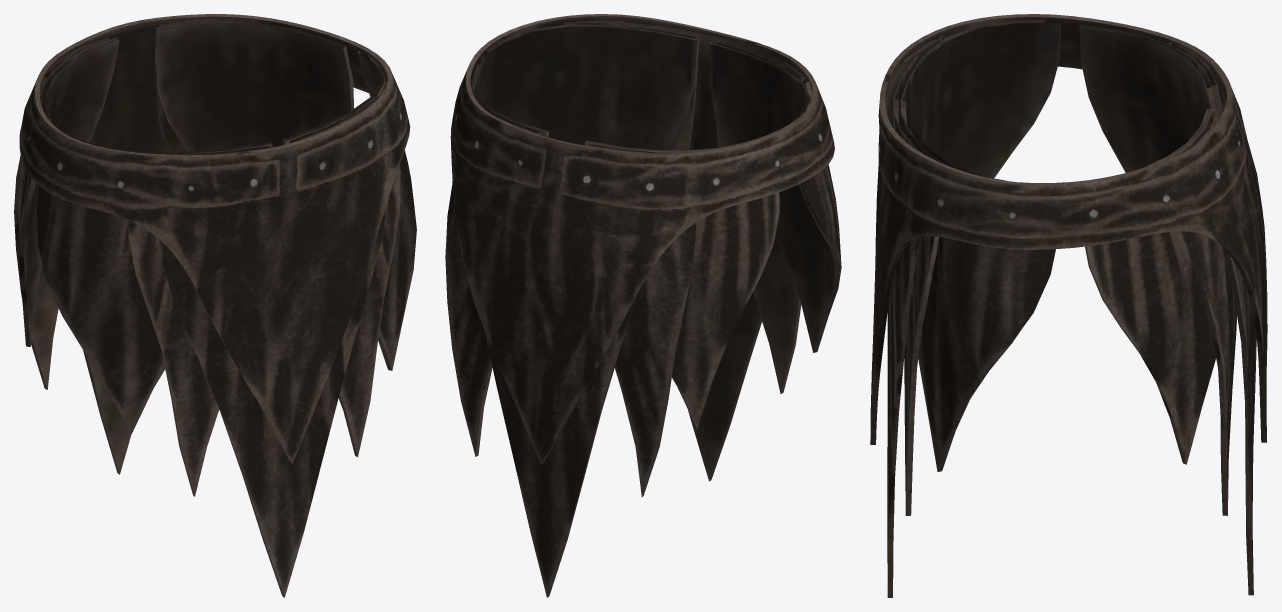
The model's file is sk_uruk_hai_skirt_a1.fbx.
The picture shows the model from 3 angles, left to right: view 1: azimuth 30°, elevation 25°; view 2: azimuth 150°, elevation 25°; view 3: azimuth 270°, elevation 25°; orthographic projection. The views are drawn at different scales.
Visible parts, largest first — view 1: sk_uruk_hai_skirt_a1; view 2: sk_uruk_hai_skirt_a1; view 3: sk_uruk_hai_skirt_a1.
Boxes of the visible parts, left/top/right/bottom form: sk_uruk_hai_skirt_a1: left=14, top=14, right=416, bottom=597; sk_uruk_hai_skirt_a1: left=445, top=14, right=841, bottom=597; sk_uruk_hai_skirt_a1: left=870, top=14, right=1267, bottom=597.
Bounding box in the file's own units: 0.4313 × 0.3721 × 0.52.
1 material, 1 textured.
